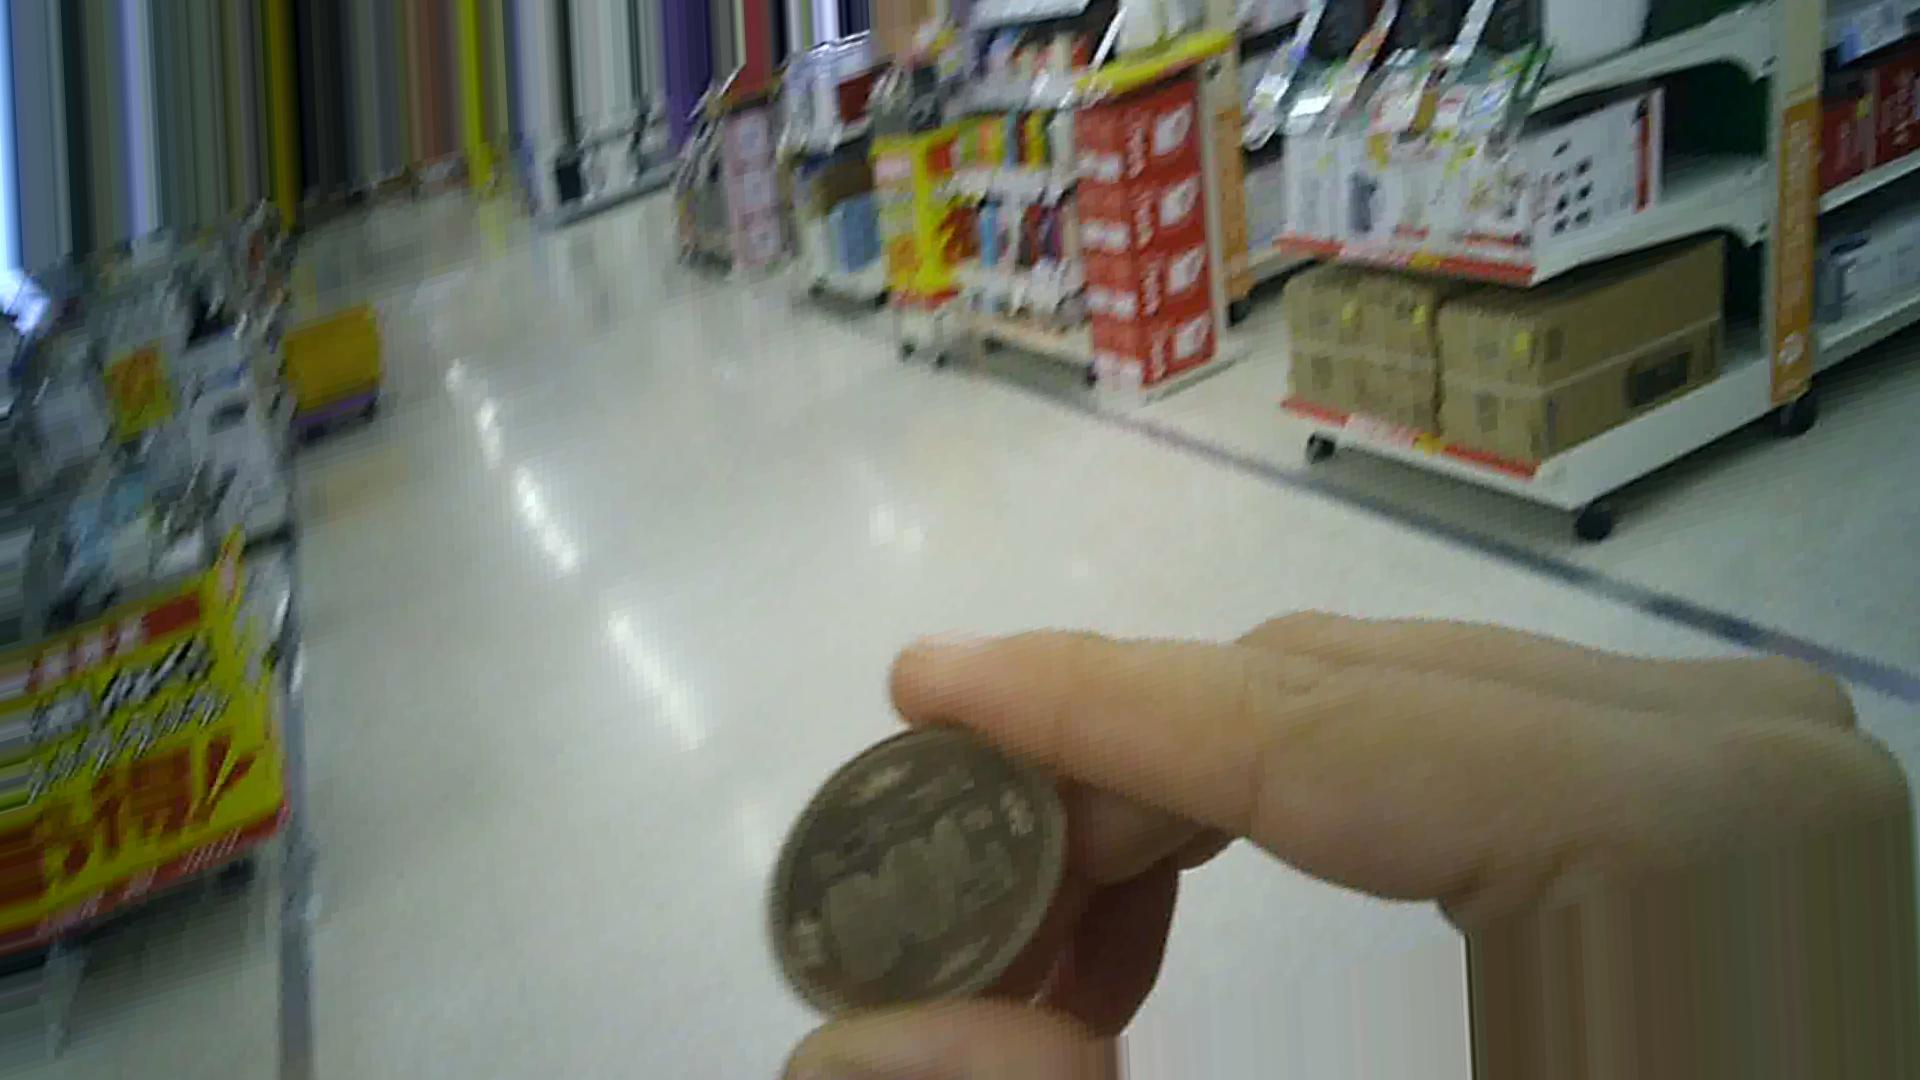500 Yen: (749, 698, 1044, 1000)
